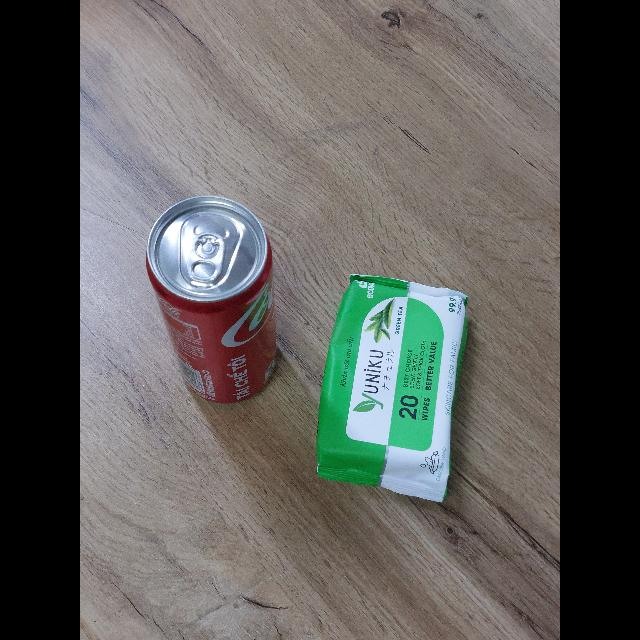coca_cola: (146, 196, 276, 403)
khan_giay: (317, 275, 467, 501)
